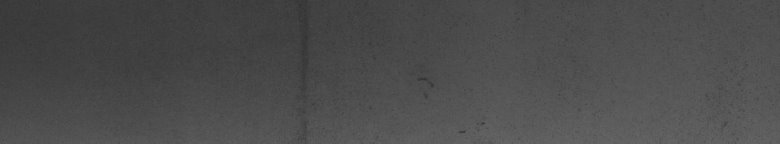ib: (412, 73, 488, 136)
